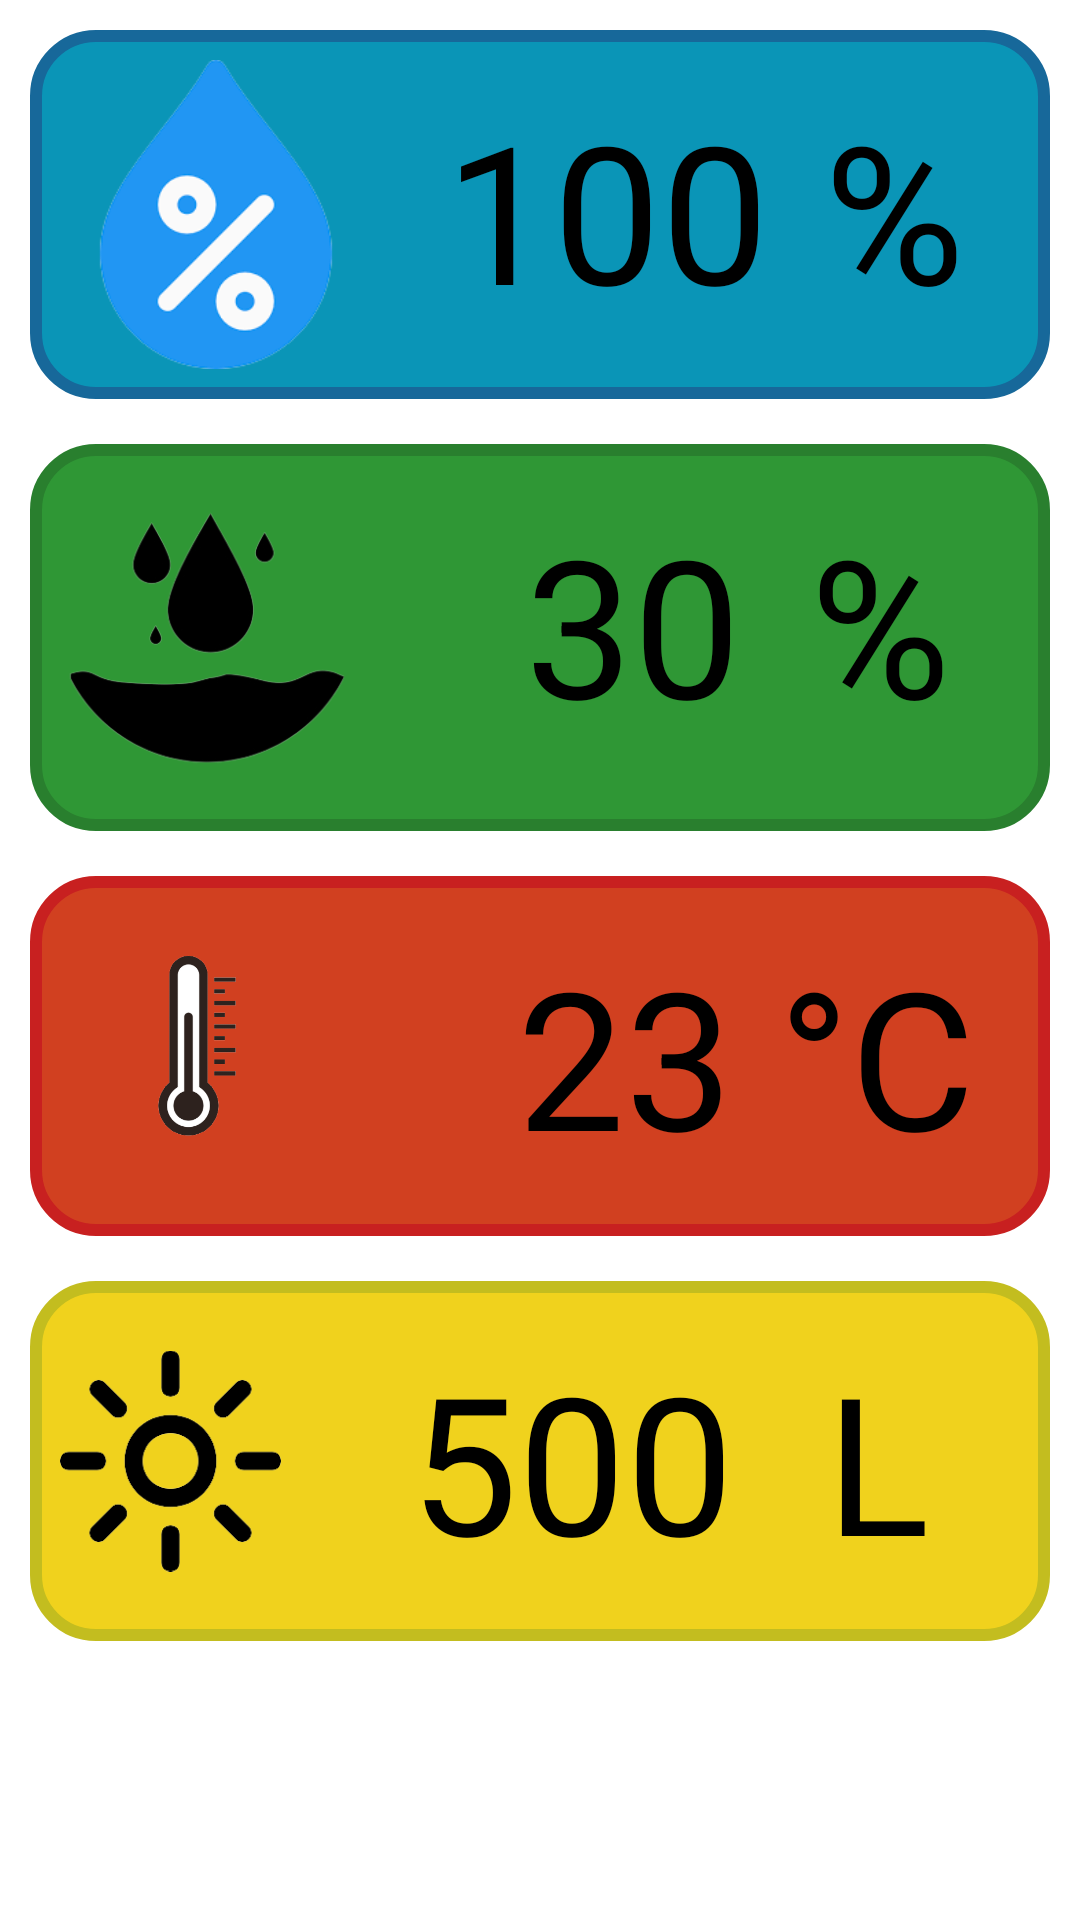

Icon bounding boxes for this 1080px x 1920px phone screenshot, format bbox=(x1, y1, x2, y2):
humidity: bbox=(100, 60, 332, 369)
soil moisture nature plants: bbox=(70, 514, 344, 763)
